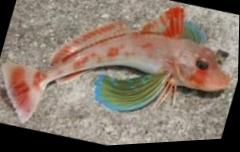fish: (0, 8, 232, 124)
